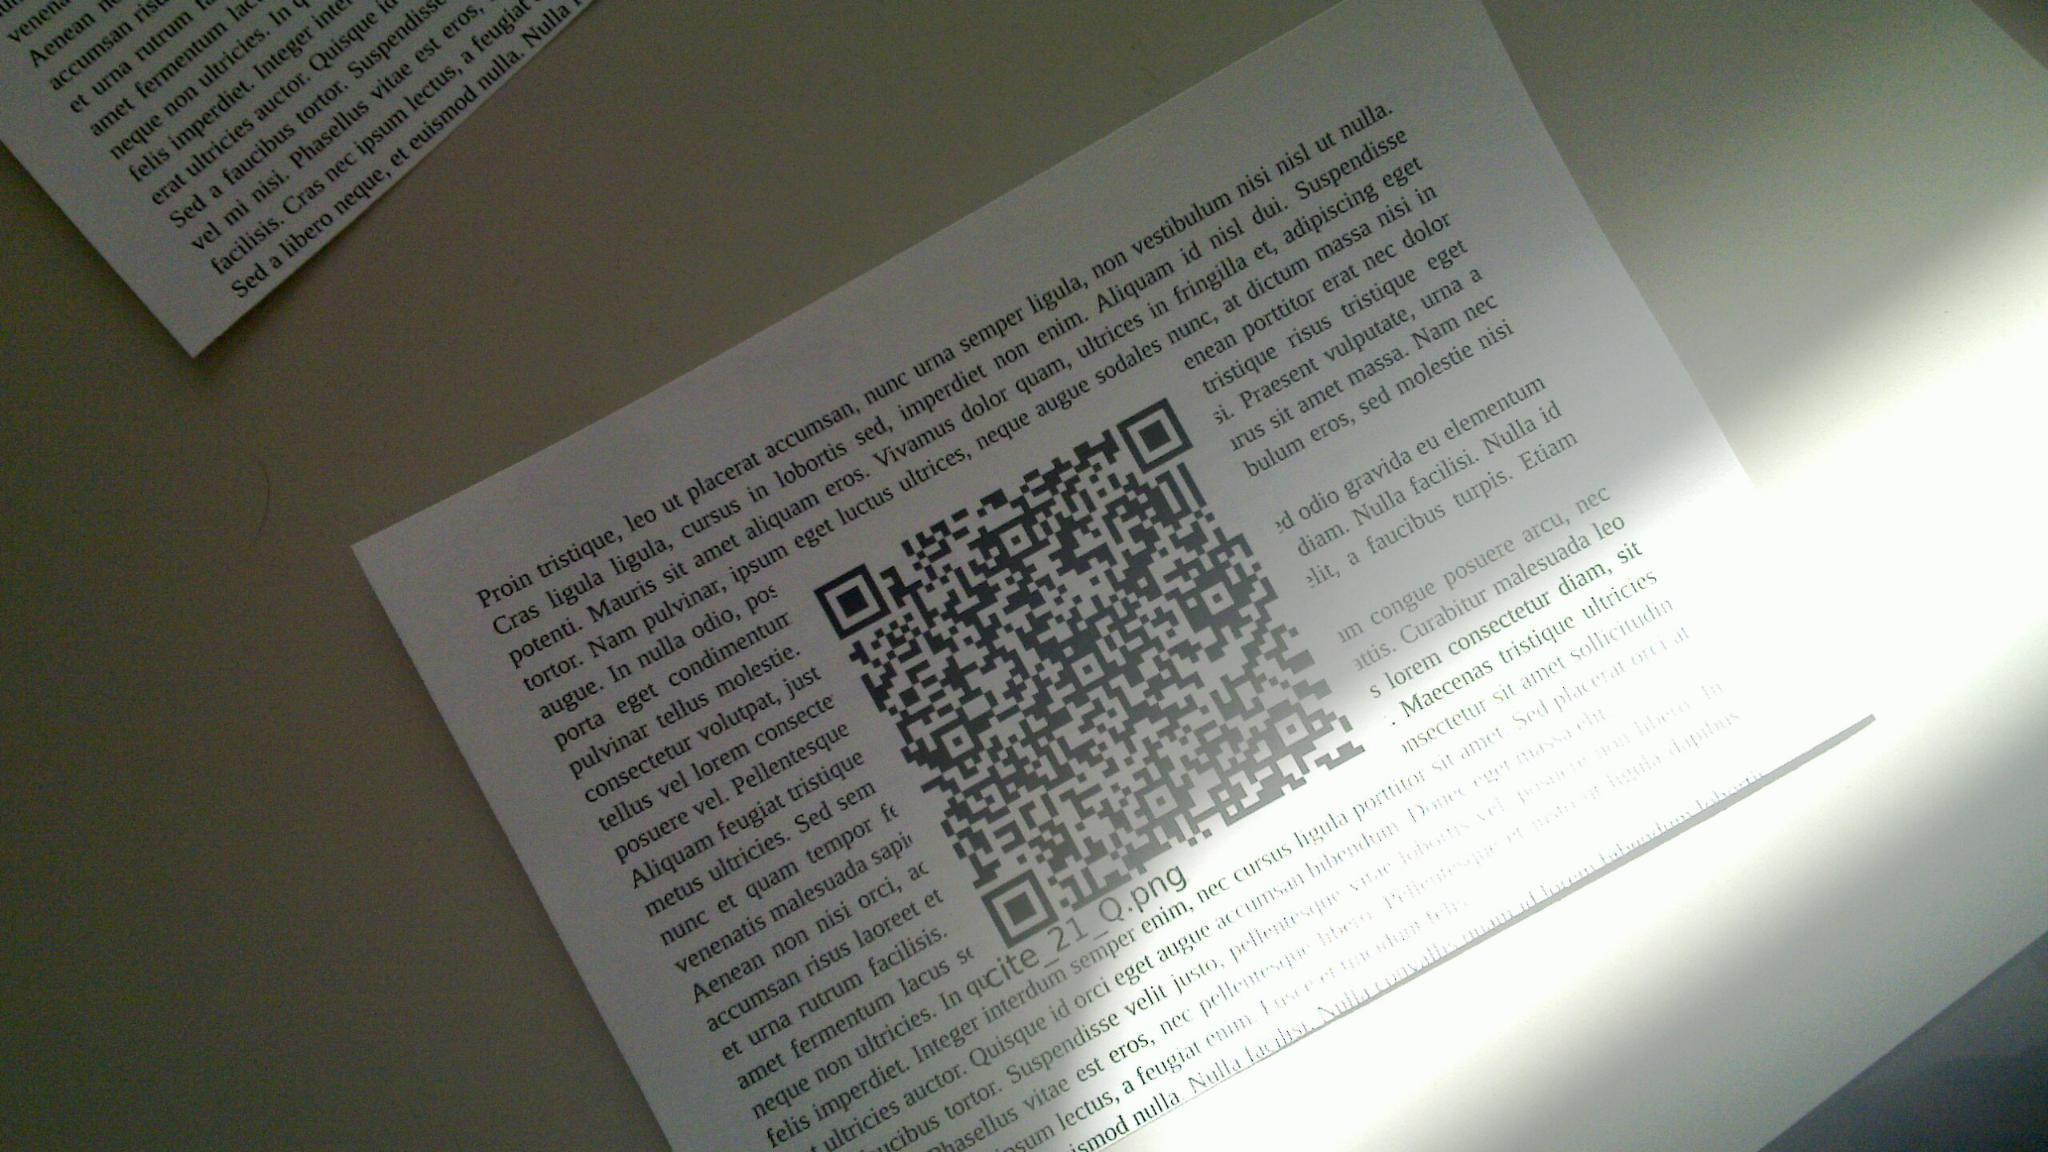qr_code: (812, 397, 1367, 949)
